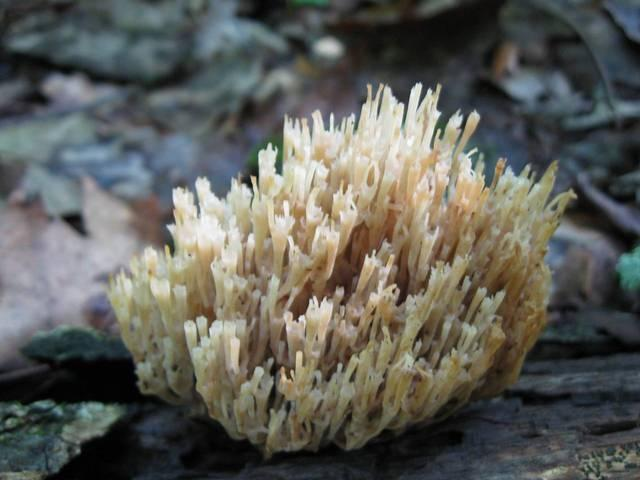Edible Mushroom: (104, 79, 578, 460)
